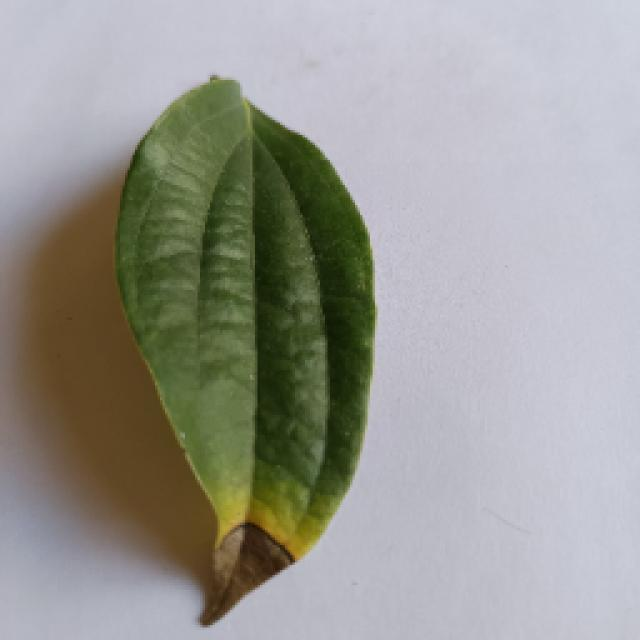footrot: (78, 80, 380, 625)
